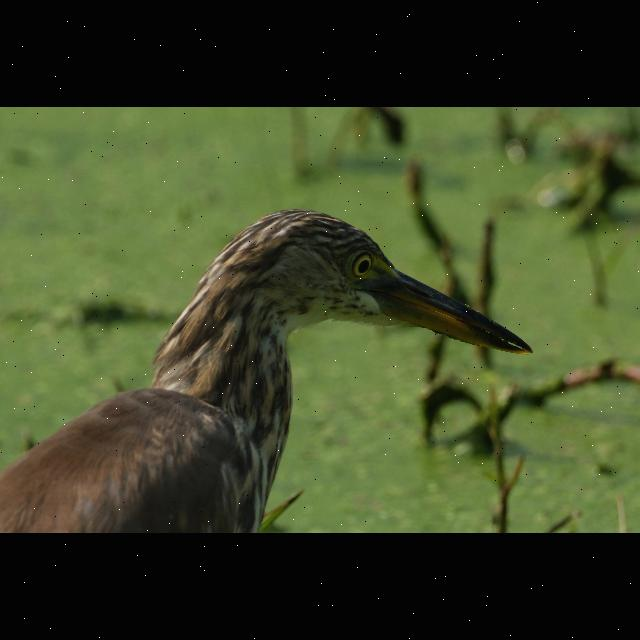heron: (9, 204, 541, 534)
